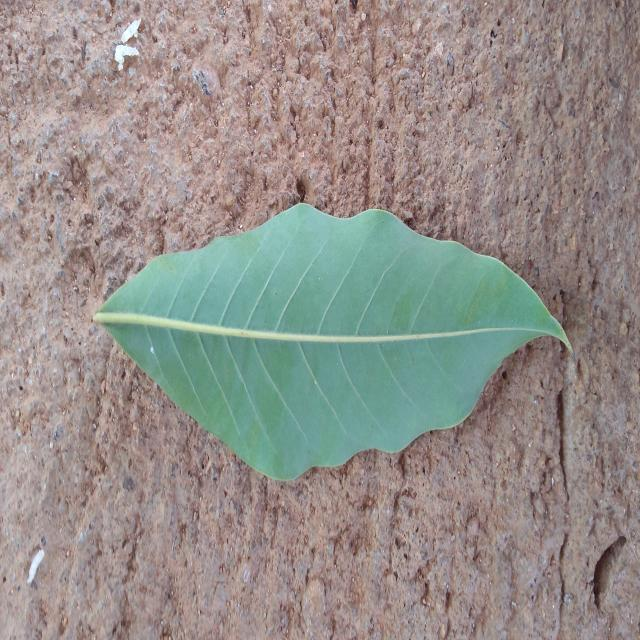sampige: (95, 202, 572, 480)
